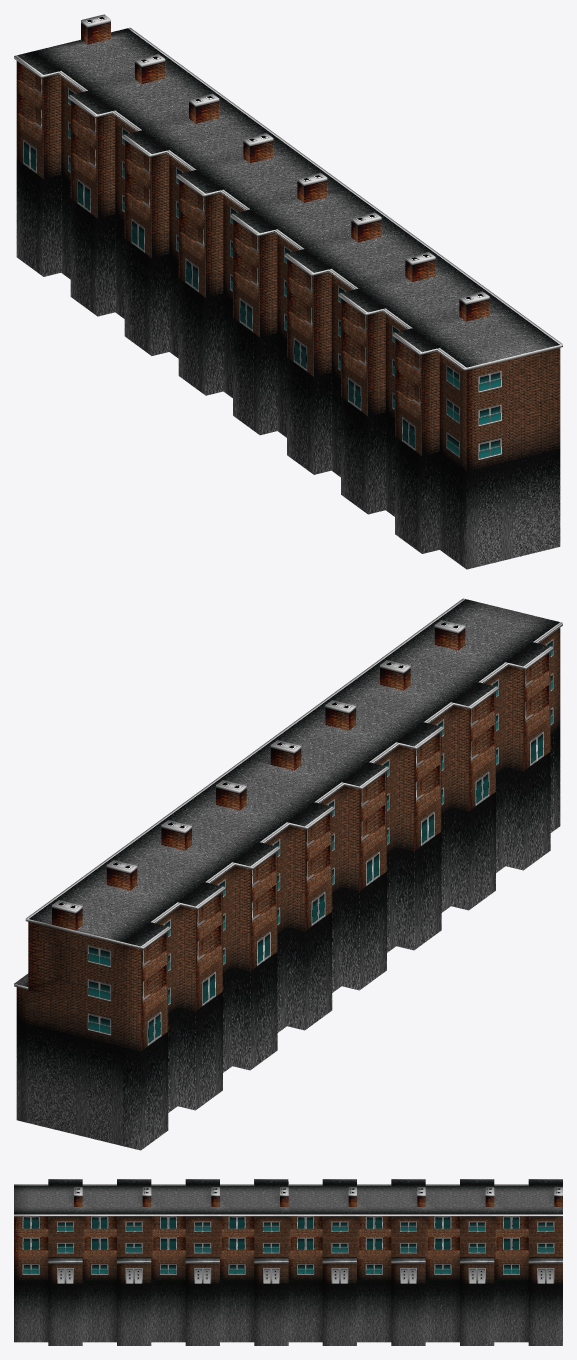
Rendered from maisonet_mod3_4a.fbx.
3 views of the same model, one above another, from view 1: azimuth 30°, elevation 25°; view 2: azimuth 150°, elevation 25°; view 3: azimuth 270°, elevation 25° (orthographic). The views are drawn at different scales.
Visible parts, largest first — view 1: maisonet_mod3_4a; view 2: maisonet_mod3_4a; view 3: maisonet_mod3_4a.
Boxes of the visible parts, x1,y1,x2,y2 form: maisonet_mod3_4a: (14,14,562,569); maisonet_mod3_4a: (14,598,562,1150); maisonet_mod3_4a: (14,1179,562,1345).
Bounding box in the file's own units: 1231 × 2033 × 7200.
